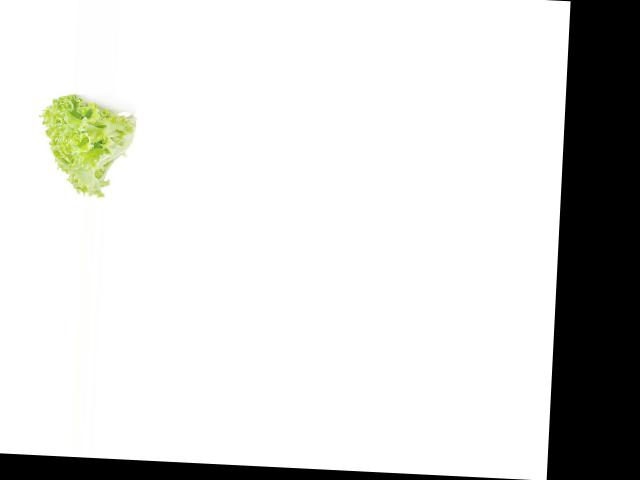lettuce: (30, 92, 144, 202)
